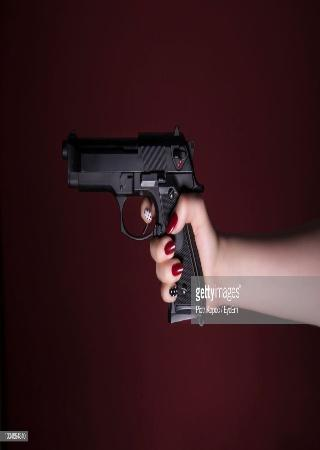weapon: (62, 125, 207, 327)
